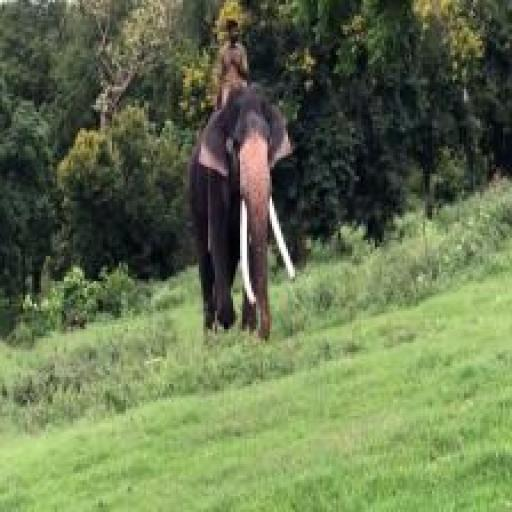Elephant: (183, 82, 296, 354)
